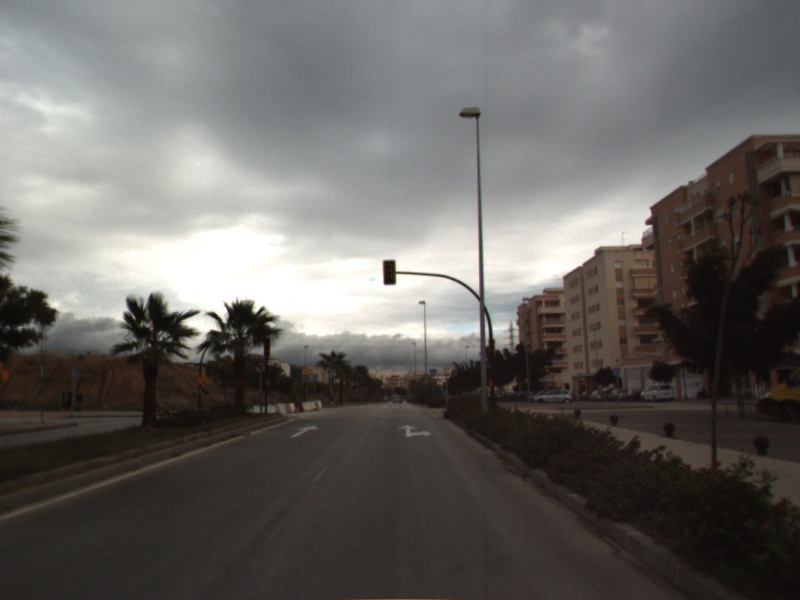STRAIGHT: (287, 423, 320, 440)
STRAIGHT_RIGHT: (396, 423, 434, 439)
